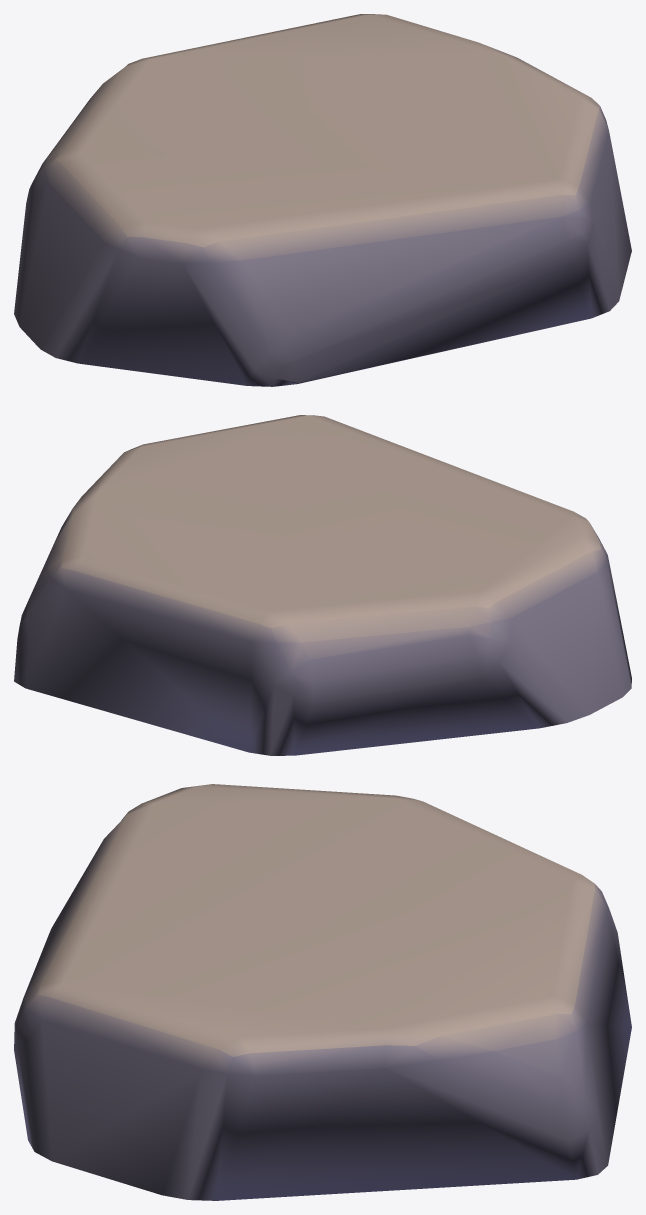
Rendered from SteppingStone.fbx.
The picture shows the model from 3 angles, top to bottom: view 1: azimuth 30°, elevation 25°; view 2: azimuth 150°, elevation 25°; view 3: azimuth 270°, elevation 25°; orthographic projection. The views are drawn at different scales.
Parts seen in each view (by area): view 1: SteppingStone; view 2: SteppingStone; view 3: SteppingStone.
Part boxes in pixels (left/top/right/bottom): SteppingStone: left=14, top=14, right=631, bottom=386; SteppingStone: left=14, top=415, right=631, bottom=755; SteppingStone: left=14, top=784, right=631, bottom=1200.
Bounding box in the file's own units: 0.9261 × 0.21 × 0.7893.
